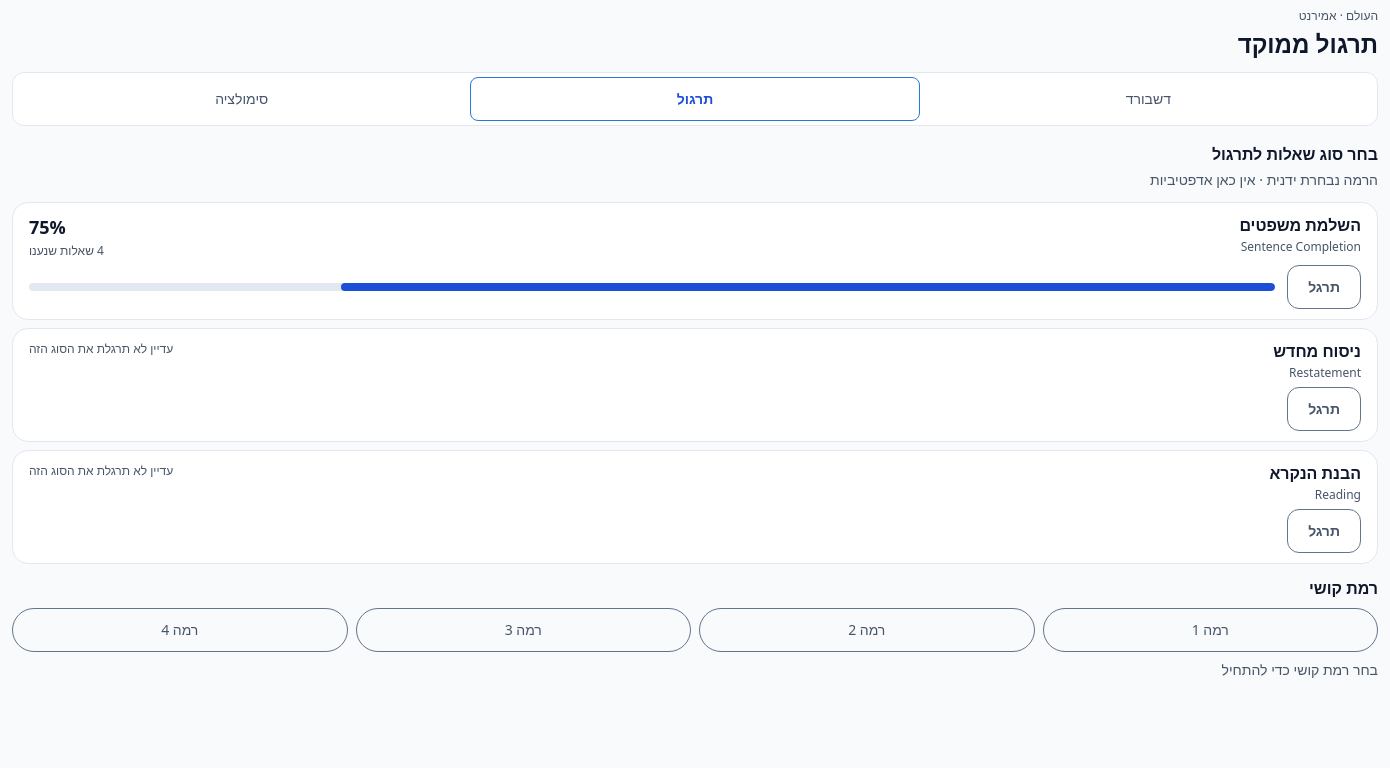
AmirnetPracticeFlow — the production door (T-376) › both choices ⇒ it asks the bank with the learner's OWN two values
Click the button "רמה 2" at (867, 630), box [699,608,1034,652]
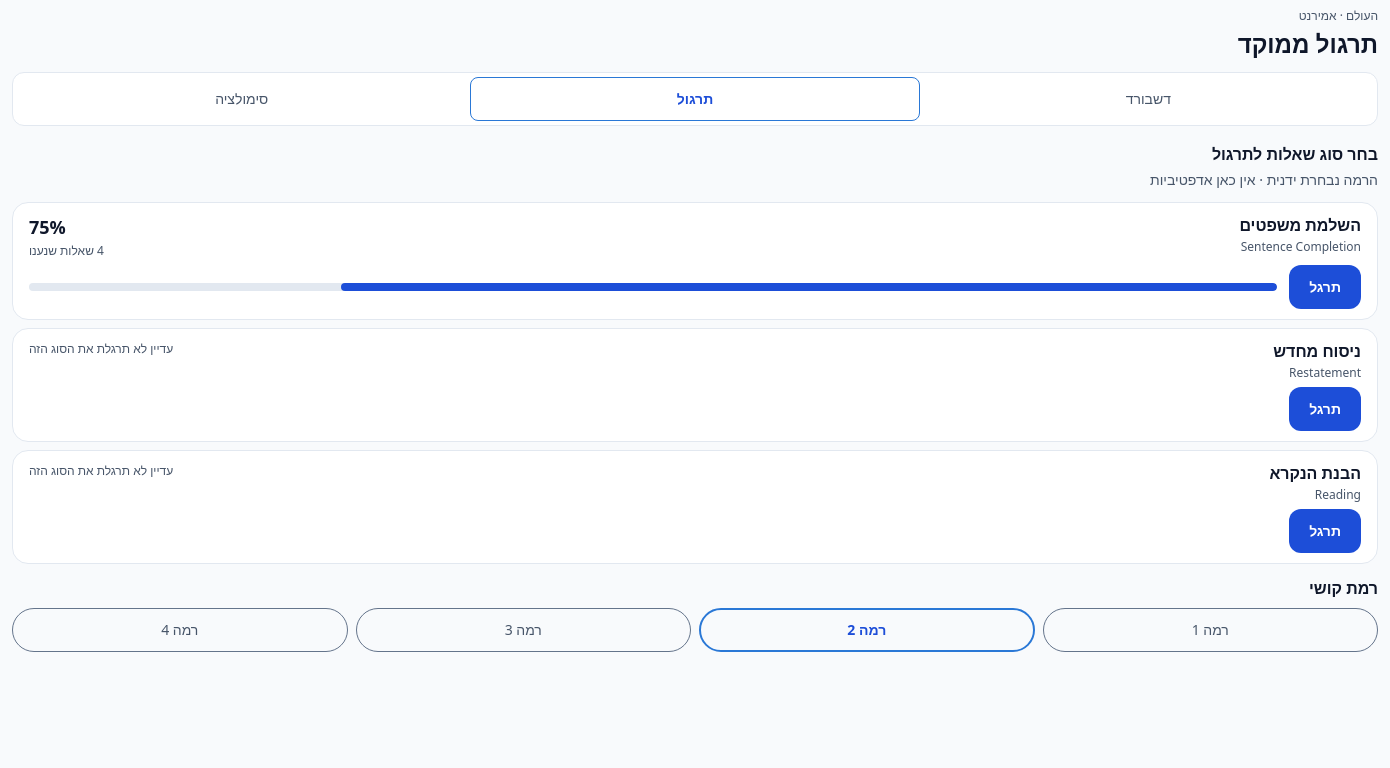
Click the button "תרגל" below "השלמת משפטים" at (1325, 287), box [1289,265,1361,309]
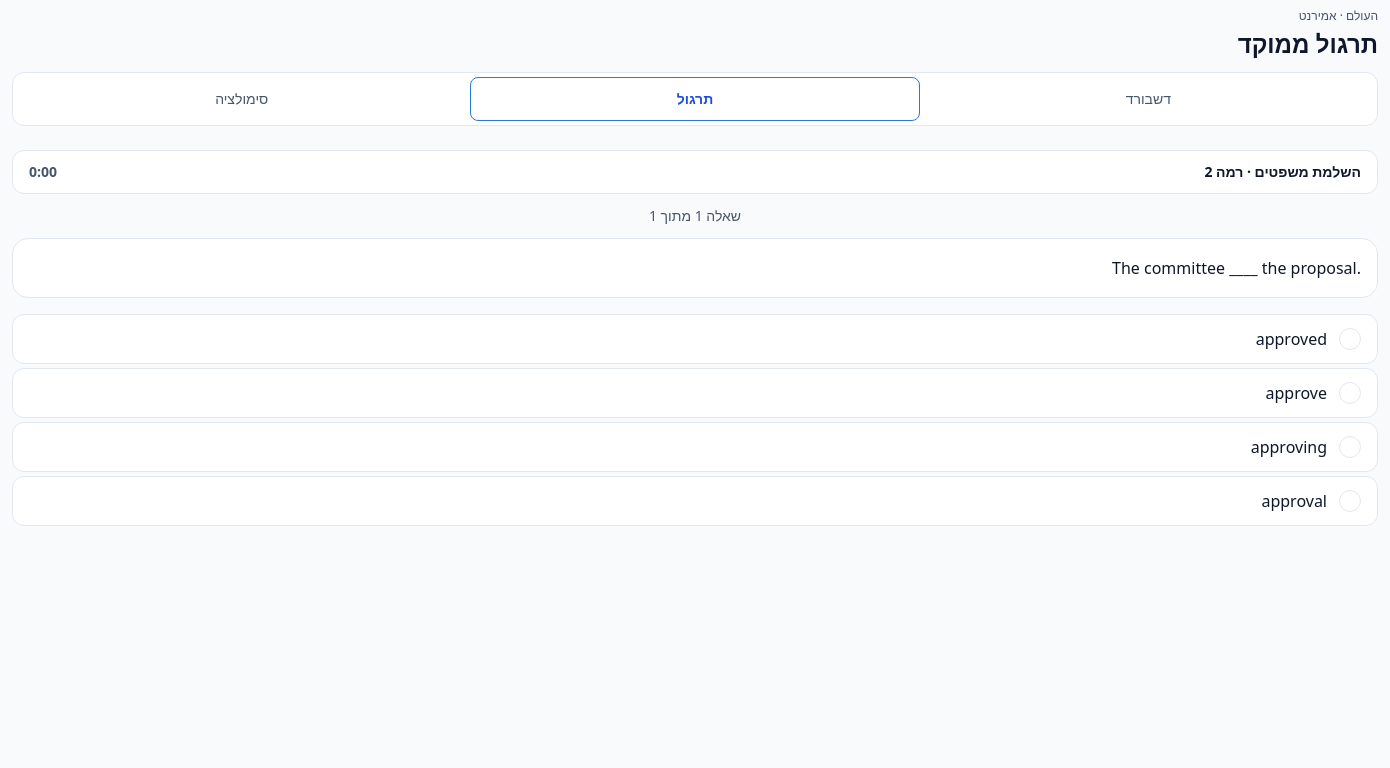
Check: the text "approved" is shown, box [1256,328,1327,350]
